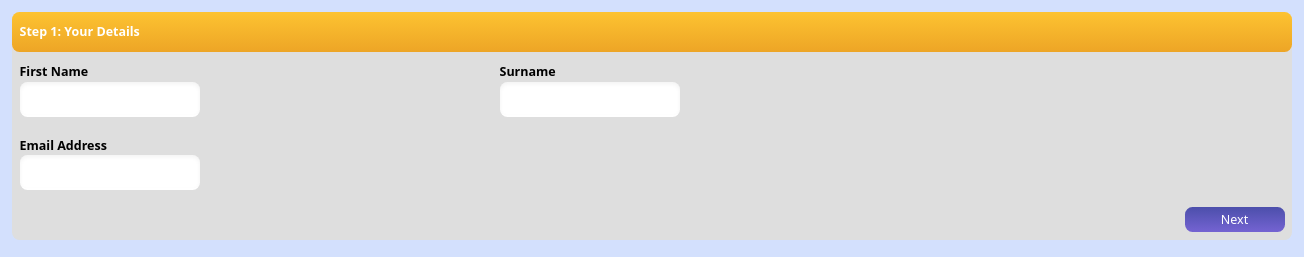
Test case: <SectionOne/> › Initial state › if Button is clicked, and all fields are not valid expect error message
This screenshot has width=1304, height=257.
Expected: the button "Next" is shown, left=1184, top=207, right=1284, bottom=232
In the field with test id "email": (110, 173) left=20, top=155, right=200, bottom=190, type "bru@gee.com"
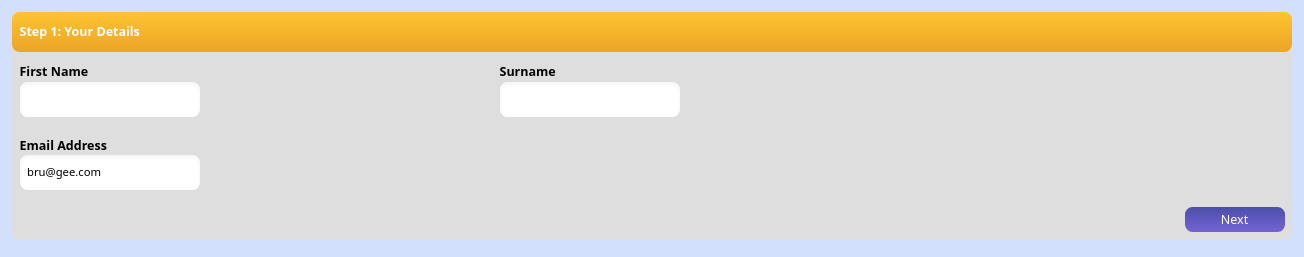
Click the button "Next": click(1234, 220) left=1184, top=207, right=1284, bottom=232
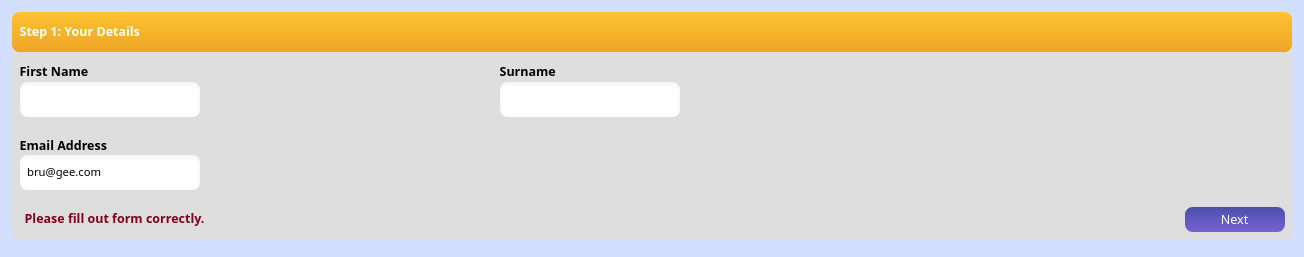
Now the text "Please fill out form correctly." is shown, box left=24, top=210, right=204, bottom=227
